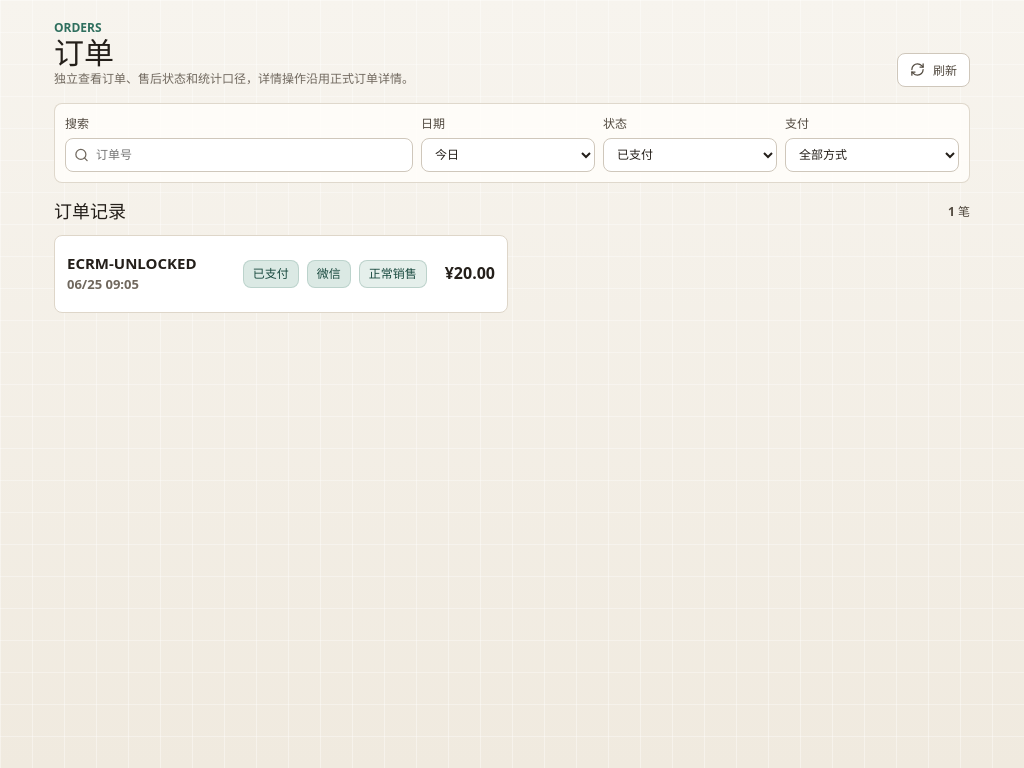
Scenario: opens order detail without PIN when order detail is removed from the field mode scope
Click the button with aria-label "查看订单 ECRM-UNLOCKED" at (281, 274), box x1=67 y1=248 x2=495 y2=300
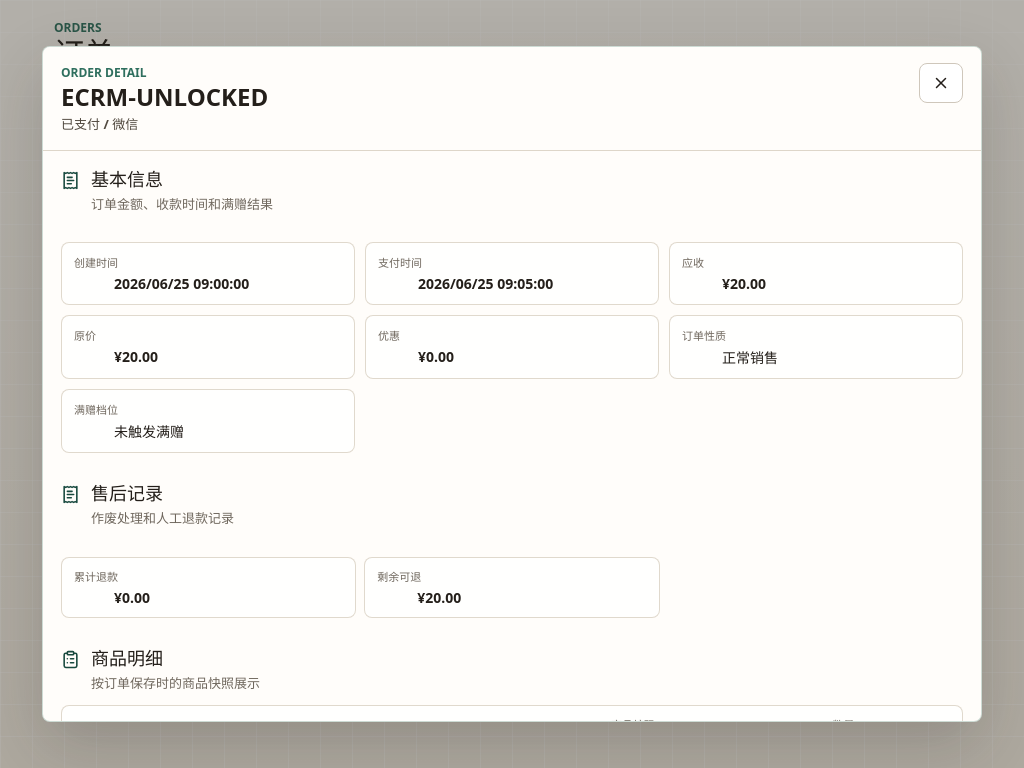
Result: the dialog named "订单详情" is shown
